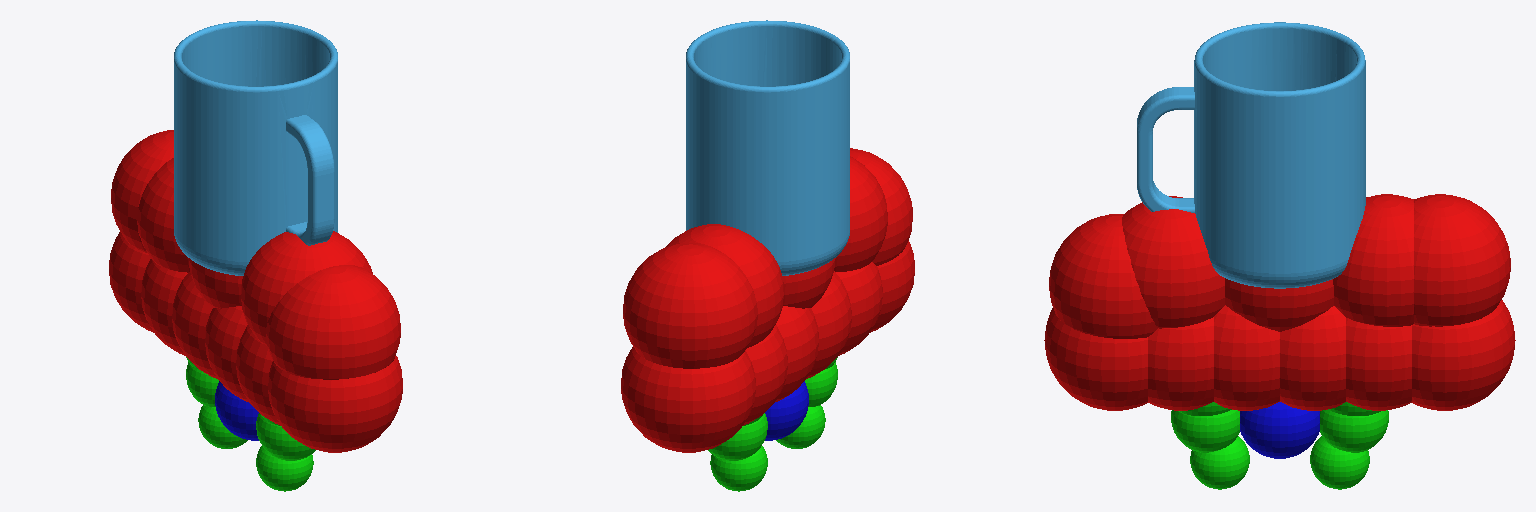
robot.urdf — ff_pxyz_rz:
<?xml version="1.0" encoding="utf-8"?>
<!-- =================================================================================== -->
<!-- |    This document was autogenerated by xacro from mug_hand_fingers_fixed_prismatic_xyz_revolute_z.urdf.xacro | -->
<!-- |    EDITING THIS FILE BY HAND IS NOT RECOMMENDED                                 | -->
<!-- =================================================================================== -->
<robot name="ff_pxyz_rz">
  <material name="redtran">
    <color rgba=".9 .1 .1 0.3"/>
  </material>
  <material name="greentran">
    <color rgba=".1 .9 .1 0.3"/>
  </material>
  <material name="bluetran">
    <color rgba=".1 .1 .9 0.3"/>
  </material>
  <link name="pxyz_rz_base_link"/>
  <link name="pxyz_rz_prismatic_x_link"/>
  <link name="pxyz_rz_prismatic_y_link"/>
  <link name="pxyz_rz_prismatic_z_link"/>
  <link name="pxyz_rz_revolute_z_link"/>
  <joint name="pxyz_rz_prismatic_x_joint" type="prismatic">
    <parent link="pxyz_rz_base_link"/>
    <child link="pxyz_rz_prismatic_x_link"/>
    <origin rpy="0 0 0" xyz="0 0 0"/>
    <axis xyz="1 0 0"/>
  </joint>
  <joint name="pxyz_rz_prismatic_y_joint" type="prismatic">
    <parent link="pxyz_rz_prismatic_x_link"/>
    <child link="pxyz_rz_prismatic_y_link"/>
    <origin rpy="0 0 0" xyz="0 0 0"/>
    <axis xyz="0 1 0"/>
  </joint>
  <joint name="pxyz_rz_prismatic_z_joint" type="prismatic">
    <parent link="pxyz_rz_prismatic_y_link"/>
    <child link="pxyz_rz_prismatic_z_link"/>
    <origin rpy="0 0 0" xyz="0 0 0"/>
    <axis xyz="0 0 1"/>
  </joint>
  <joint name="pxyz_rz_revolute_z_joint" type="revolute">
    <parent link="pxyz_rz_prismatic_z_link"/>
    <child link="pxyz_rz_revolute_z_link"/>
    <origin rpy="0 0 0" xyz="0 0 0"/>
    <axis xyz="0 0 -1"/>
  </joint>
  <joint name="panda_hand_joint" type="fixed">
    <parent link="pxyz_rz_revolute_z_link"/>
    <child link="panda_hand"/>
    <origin rpy="3.14159265359 0 0" xyz="0 0 0"/>
  </joint>
  <link name="panda_hand">
    <visual>
      <geometry>
        <mesh filename="package://franka_description/meshes/visual/hand.dae"/>
      </geometry>
    </visual>
    <visual>
      <origin xyz="0 -.077 .041"/>
      <geometry>
        <sphere radius="0.033"/>
      </geometry>
      <material name="redtran"/>
    </visual>
    <visual>
      <origin xyz="0 .075 .012"/>
      <geometry>
        <sphere radius="0.033"/>
      </geometry>
      <material name="redtran"/>
    </visual>
    <visual>
      <origin xyz="0 .077 .041"/>
      <geometry>
        <sphere radius="0.033"/>
      </geometry>
      <material name="redtran"/>
    </visual>
    <visual>
      <origin xyz="0 -.05 .002"/>
      <geometry>
        <sphere radius="0.033"/>
      </geometry>
      <material name="redtran"/>
    </visual>
    <visual>
      <origin xyz="0 -.046 .041"/>
      <geometry>
        <sphere radius="0.033"/>
      </geometry>
      <material name="redtran"/>
    </visual>
    <visual>
      <origin xyz="0 .046 .041"/>
      <geometry>
        <sphere radius="0.033"/>
      </geometry>
      <material name="redtran"/>
    </visual>
    <visual>
      <origin xyz="0 .016 .041"/>
      <geometry>
        <sphere radius="0.033"/>
      </geometry>
      <material name="redtran"/>
    </visual>
    <visual>
      <origin xyz="0 -.016 .041"/>
      <geometry>
        <sphere radius="0.033"/>
      </geometry>
      <material name="redtran"/>
    </visual>
    <visual>
      <origin xyz="0 -.075 .002"/>
      <geometry>
        <sphere radius="0.033"/>
      </geometry>
      <material name="redtran"/>
    </visual>
    <visual>
      <origin xyz="0 .051 .003"/>
      <geometry>
        <sphere radius="0.033"/>
      </geometry>
      <material name="redtran"/>
    </visual>
    <visual>
      <origin xyz="0 0 .003"/>
      <geometry>
        <sphere radius="0.033"/>
      </geometry>
      <material name="redtran"/>
    </visual>
  </link>
  <link name="panda_leftfinger">
    <visual>
      <geometry>
        <mesh filename="package://franka_description/meshes/visual/finger.dae"/>
      </geometry>
    </visual>
    <visual>
      <origin xyz="0 .014 .022"/>
      <geometry>
        <sphere radius="0.017"/>
      </geometry>
      <material name="greentran"/>
    </visual>
    <visual>
      <origin xyz="0 .015 .005"/>
      <geometry>
        <sphere radius="0.018"/>
      </geometry>
      <material name="greentran"/>
    </visual>
    <visual>
      <origin xyz="0 .008 .044"/>
      <geometry>
        <sphere radius="0.014"/>
      </geometry>
      <material name="greentran"/>
    </visual>
  </link>
  <link name="panda_rightfinger">
    <visual>
      <origin rpy="0 0 3.14159265359" xyz="0 0 0"/>
      <geometry>
        <mesh filename="package://franka_description/meshes/visual/finger.dae"/>
      </geometry>
    </visual>
    <visual>
      <origin xyz="0 -.014 .022"/>
      <geometry>
        <sphere radius="0.017"/>
      </geometry>
      <material name="greentran"/>
    </visual>
    <visual>
      <origin xyz="0 -.015 .005"/>
      <geometry>
        <sphere radius="0.018"/>
      </geometry>
      <material name="greentran"/>
    </visual>
    <visual>
      <origin xyz="0 -.008 .044"/>
      <geometry>
        <sphere radius="0.014"/>
      </geometry>
      <material name="greentran"/>
    </visual>
  </link>
  <link name="panda_hand_center">
    <visual>
      <origin xyz="0 0 0"/>
      <geometry>
        <sphere radius="0.02"/>
      </geometry>
      <material name="bluetran"/>
    </visual>
  </link>
  <joint name="panda_finger_joint1" type="fixed">
    <parent link="panda_hand"/>
    <child link="panda_leftfinger"/>
    <origin rpy="0 0 0" xyz="0 0.02 0.0584"/>
  </joint>
  <joint name="panda_finger_joint2" type="fixed">
    <parent link="panda_hand"/>
    <child link="panda_rightfinger"/>
    <origin rpy="0 0 0" xyz="0 -0.02 0.0584"/>
    <mimic joint="panda_finger_joint1"/>
  </joint>
  <joint name="panda_hand_center_joint" type="fixed">
    <parent link="panda_hand"/>
    <child link="panda_hand_center"/>
    <origin rpy="0 0 0" xyz="0 0 0.08"/>
  </joint>
  <joint name="mug_joint" type="floating">
    <parent link="pxyz_rz_base_link"/>
    <child link="mug"/>
    <origin rpy="0 0 0" xyz="0 0 0"/>
  </joint>
  <link name="mug">
    <visual>
      <geometry>
        <mesh filename="package://franka_description/meshes/mug.dae"/>
        <!-- <mesh filename="file://[local-path]/.julia/dev/PBDS/urdf/meshes/mug.dae"/>  -->
        <!--/// means absolute path-->
        <!-- <mesh filename="file://../meshes/mug.dae"/> -->
        <!-- <mesh filename="package://$(find panda_roahm)/worlds/mug.dae"/> -->
      </geometry>
    </visual>
  </link>
  <link name="mug_rim_center"/>
  <joint name="mug_rim_center_joint" type="fixed">
    <parent link="mug"/>
    <child link="mug_rim_center"/>
    <origin rpy="0 0 0" xyz="0 0 0.105"/>
  </joint>
</robot>

--- Render facts (derived) ---
The picture shows the robot from 3 angles, left to right: view 1: azimuth 30°, elevation 25°; view 2: azimuth 150°, elevation 25°; view 3: azimuth 270°, elevation 25°; orthographic projection.
Robot: ff_pxyz_rz — 11 links, 10 joints (1 revolute, 3 prismatic, 5 fixed, 1 floating); root link pxyz_rz_base_link; default pose: every joint at zero.
Visible links, largest first — view 1: panda_hand, mug, panda_leftfinger, panda_rightfinger, panda_hand_center; view 2: panda_hand, mug, panda_rightfinger, panda_leftfinger, panda_hand_center; view 3: panda_hand, mug, panda_leftfinger, panda_rightfinger, panda_hand_center.
Boxes of the visible links, box(x1,y1,x2,y2) form: panda_hand: box(109, 130, 402, 452); mug: box(174, 20, 337, 275); panda_leftfinger: box(256, 413, 315, 491); panda_rightfinger: box(186, 357, 247, 448); panda_hand_center: box(215, 381, 258, 440); panda_hand: box(621, 148, 914, 452); mug: box(686, 20, 849, 275); panda_rightfinger: box(708, 413, 767, 491); panda_leftfinger: box(776, 357, 837, 448); panda_hand_center: box(765, 381, 808, 440); panda_hand: box(1044, 194, 1515, 410); mug: box(1137, 22, 1365, 288); panda_leftfinger: box(1171, 402, 1249, 489); panda_rightfinger: box(1310, 402, 1388, 489); panda_hand_center: box(1240, 402, 1319, 458).
Size in the robot's own frame: 0.0799 by 0.22 by 0.2214 metres.
1 mesh visuals loaded from 3 distinct referenced files (1 Collada DAE); not drawn: 3 (reference not matched to a file when rendering).
